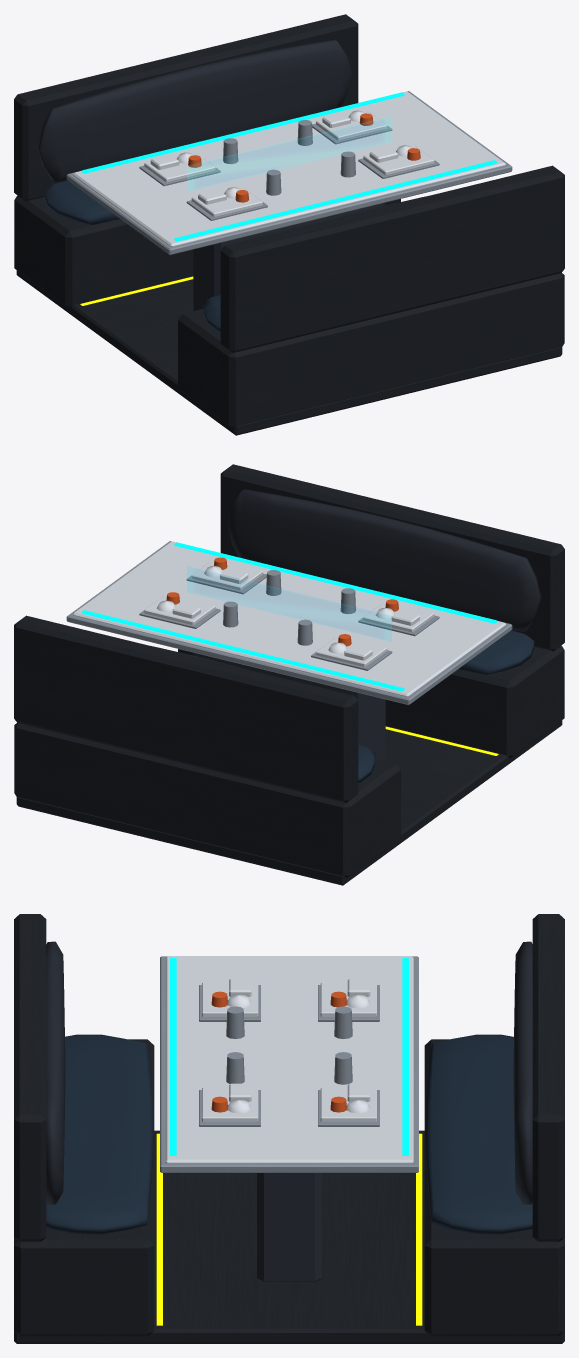
File: mess_dining_booth.glb
The picture shows the model from 3 angles, top to bottom: view 1: azimuth 30°, elevation 25°; view 2: azimuth 150°, elevation 25°; view 3: azimuth 270°, elevation 25°; orthographic projection. The views are drawn at different scales.
Visible parts, largest first — view 1: MessBooth_GunmetalFramesAndPlinth, MessBooth_AerospaceWhiteTableAndTrays, MessBooth_CharcoalFlightpadBackrests, MessBooth_MachinedSteelRimAndMugs, MessBooth_TranslucentTableCenterShield, MessBooth_CyanTableTrayBorders, MessBooth_OrbitalNavySeatCushions, MessBooth_CarbonSlateTablePedestal, MessBooth_SignalOrangeRationCaps; view 2: MessBooth_GunmetalFramesAndPlinth, MessBooth_AerospaceWhiteTableAndTrays, MessBooth_CharcoalFlightpadBackrests, MessBooth_MachinedSteelRimAndMugs, MessBooth_TranslucentTableCenterShield, MessBooth_CyanTableTrayBorders, MessBooth_OrbitalNavySeatCushions, MessBooth_CarbonSlateTablePedestal, MessBooth_SignalOrangeRationCaps; view 3: MessBooth_GunmetalFramesAndPlinth, MessBooth_AerospaceWhiteTableAndTrays, MessBooth_OrbitalNavySeatCushions, MessBooth_CharcoalFlightpadBackrests, MessBooth_MachinedSteelRimAndMugs, MessBooth_CarbonSlateTablePedestal, MessBooth_CyanTableTrayBorders, MessBooth_AmberBaseGuideStrips, MessBooth_SignalOrangeRationCaps.
Boxes of the visible parts, left/top/right/bottom form: MessBooth_GunmetalFramesAndPlinth: left=14, top=14, right=564, bottom=435; MessBooth_AerospaceWhiteTableAndTrays: left=73, top=91, right=505, bottom=246; MessBooth_CharcoalFlightpadBackrests: left=37, top=39, right=424, bottom=217; MessBooth_MachinedSteelRimAndMugs: left=66, top=91, right=512, bottom=254; MessBooth_TranslucentTableCenterShield: left=187, top=116, right=391, bottom=191; MessBooth_CyanTableTrayBorders: left=81, top=92, right=497, bottom=241; MessBooth_OrbitalNavySeatCushions: left=44, top=180, right=220, bottom=332; MessBooth_CarbonSlateTablePedestal: left=193, top=202, right=385, bottom=310; MessBooth_SignalOrangeRationCaps: left=188, top=113, right=420, bottom=202; MessBooth_GunmetalFramesAndPlinth: left=14, top=464, right=564, bottom=885; MessBooth_AerospaceWhiteTableAndTrays: left=73, top=541, right=505, bottom=696; MessBooth_CharcoalFlightpadBackrests: left=151, top=489, right=541, bottom=667; MessBooth_MachinedSteelRimAndMugs: left=66, top=541, right=512, bottom=704; MessBooth_TranslucentTableCenterShield: left=187, top=566, right=391, bottom=641; MessBooth_CyanTableTrayBorders: left=81, top=542, right=497, bottom=691; MessBooth_OrbitalNavySeatCushions: left=358, top=630, right=534, bottom=782; MessBooth_CarbonSlateTablePedestal: left=193, top=652, right=385, bottom=760; MessBooth_SignalOrangeRationCaps: left=166, top=557, right=398, bottom=646; MessBooth_GunmetalFramesAndPlinth: left=14, top=914, right=564, bottom=1343; MessBooth_AerospaceWhiteTableAndTrays: left=165, top=956, right=413, bottom=1163; MessBooth_OrbitalNavySeatCushions: left=46, top=1034, right=532, bottom=1234; MessBooth_CharcoalFlightpadBackrests: left=46, top=941, right=532, bottom=1204; MessBooth_MachinedSteelRimAndMugs: left=160, top=956, right=418, bottom=1172; MessBooth_CarbonSlateTablePedestal: left=257, top=1173, right=321, bottom=1281; MessBooth_CyanTableTrayBorders: left=170, top=958, right=408, bottom=1155; MessBooth_AmberBaseGuideStrips: left=156, top=1133, right=422, bottom=1325; MessBooth_SignalOrangeRationCaps: left=211, top=991, right=346, bottom=1112.
Size of the model in its own units: 1.84 by 0.94 by 2.04.
Materials: 10 (10 with a texture image).
